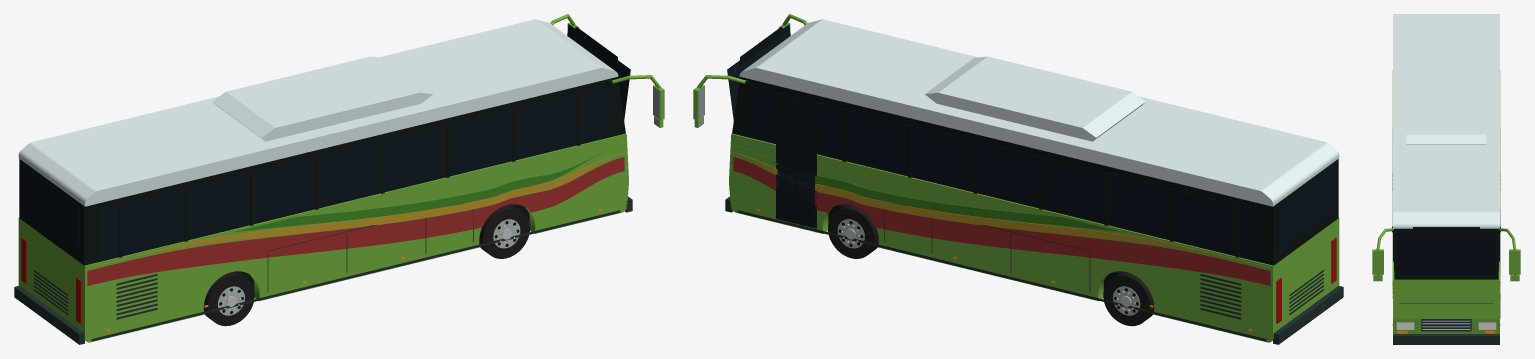
Rendered from YegnaBus.glb.
The picture shows the model from 3 angles, left to right: view 1: azimuth 30°, elevation 25°; view 2: azimuth 150°, elevation 25°; view 3: azimuth 270°, elevation 25°; orthographic projection. The views are drawn at different scales.
Visible parts, largest first — view 1: white, lime, glass, black, red, grille, yellow, green, tire, rim, tail; view 2: white, glass, lime, black, red, grille, yellow, tire, green, rim, tail; view 3: white, lime, glass, grille, black, chrome, lamp, green.
Boxes of the visible parts, box(x1,y1,x2,y2) form: white: box(18, 19, 618, 206); lime: box(18, 14, 664, 342); glass: box(23, 24, 630, 260); black: box(19, 26, 625, 314); red: box(87, 157, 624, 285); grille: box(14, 196, 632, 344); yellow: box(87, 152, 624, 267); green: box(233, 144, 624, 232); tire: box(203, 204, 529, 326); rim: box(217, 219, 520, 315); tail: box(21, 238, 81, 323); white: box(739, 19, 1339, 206); glass: box(727, 24, 1334, 260); lime: box(693, 14, 1339, 342); black: box(732, 26, 1338, 314); red: box(733, 157, 1270, 285); grille: box(725, 196, 1343, 344); yellow: box(733, 152, 1270, 267); tire: box(828, 204, 1154, 326); green: box(733, 144, 1124, 232); rim: box(837, 219, 1140, 315); tail: box(1276, 238, 1336, 323); white: box(1393, 14, 1499, 228); lime: box(1372, 228, 1520, 333); glass: box(1394, 210, 1500, 318); grille: box(1393, 319, 1499, 344); black: box(1377, 226, 1515, 303); chrome: box(1392, 173, 1500, 329); lamp: box(1396, 322, 1496, 329); green: box(1392, 127, 1500, 286).
Bounding box in the file's own units: 12.66 × 3.79 × 3.55.
